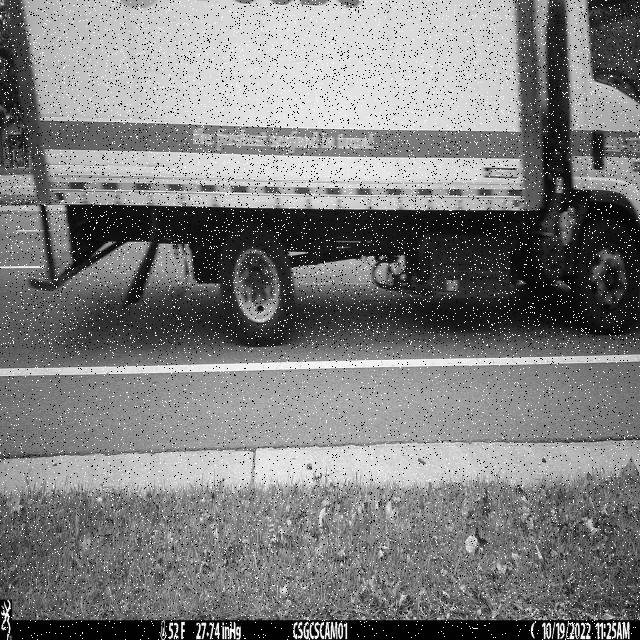Box Truck: (4, 0, 640, 349)
